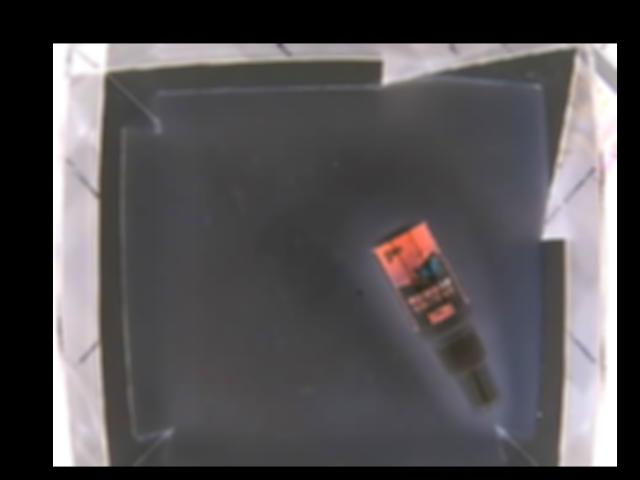Bottle: (371, 215, 504, 417)
